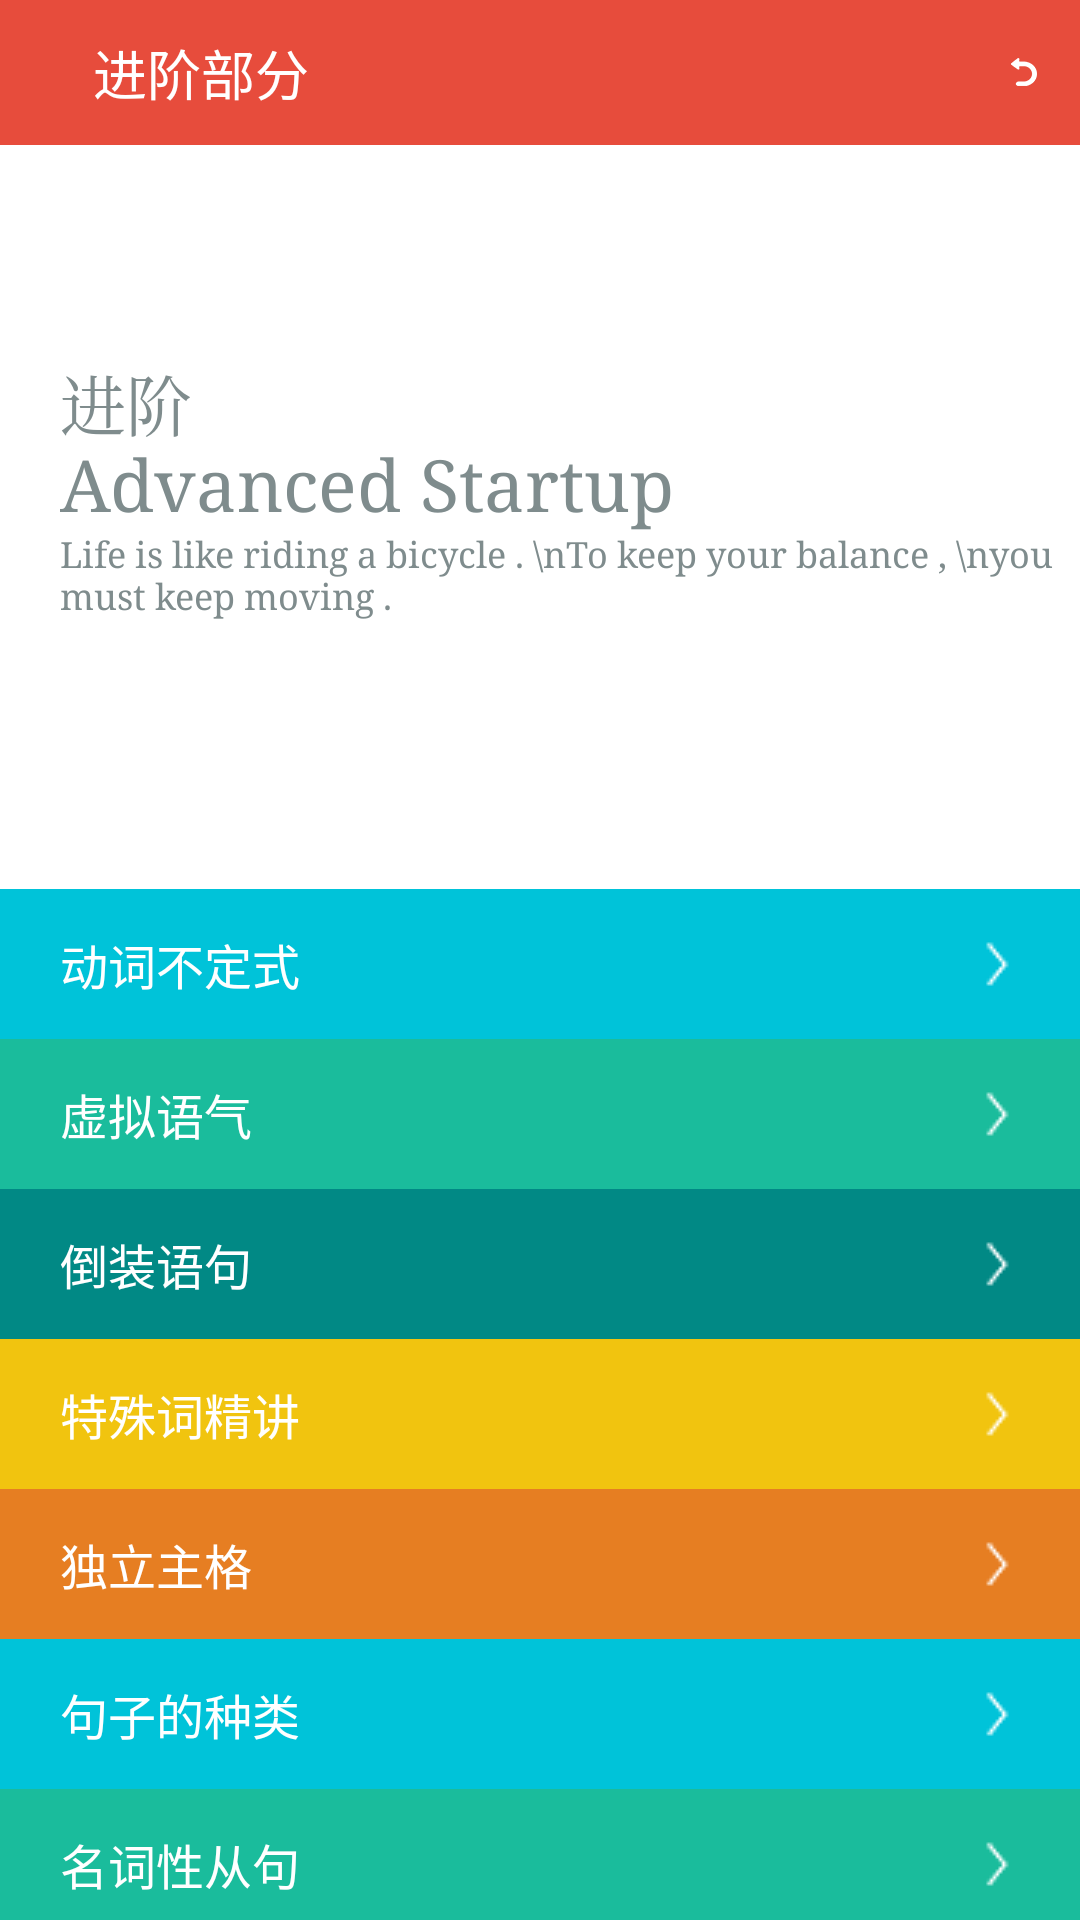

Locate icon controls on the screen. Image size 1080x1920, boxes as (x1, y1, x2, y2).
back: (1011, 58, 1037, 86)
